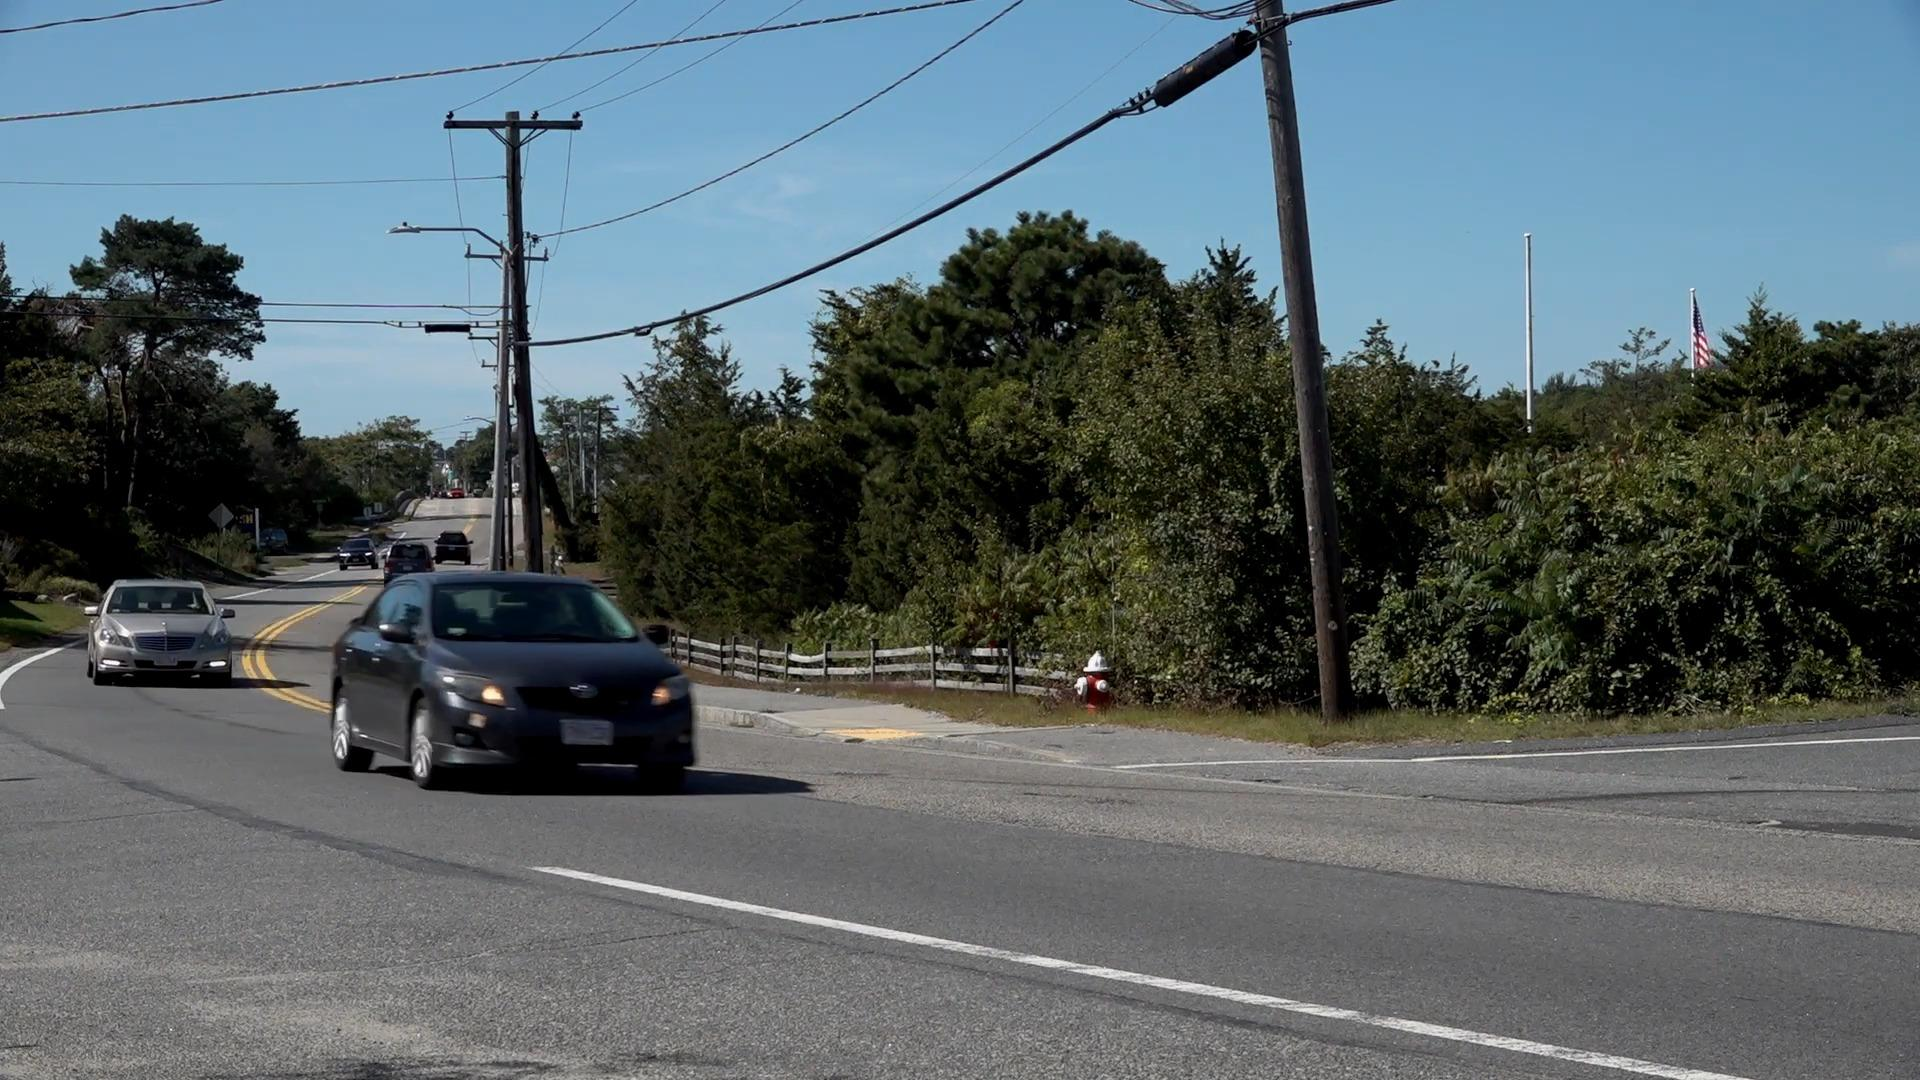sedans: (331, 573, 701, 790), (89, 579, 236, 680)
